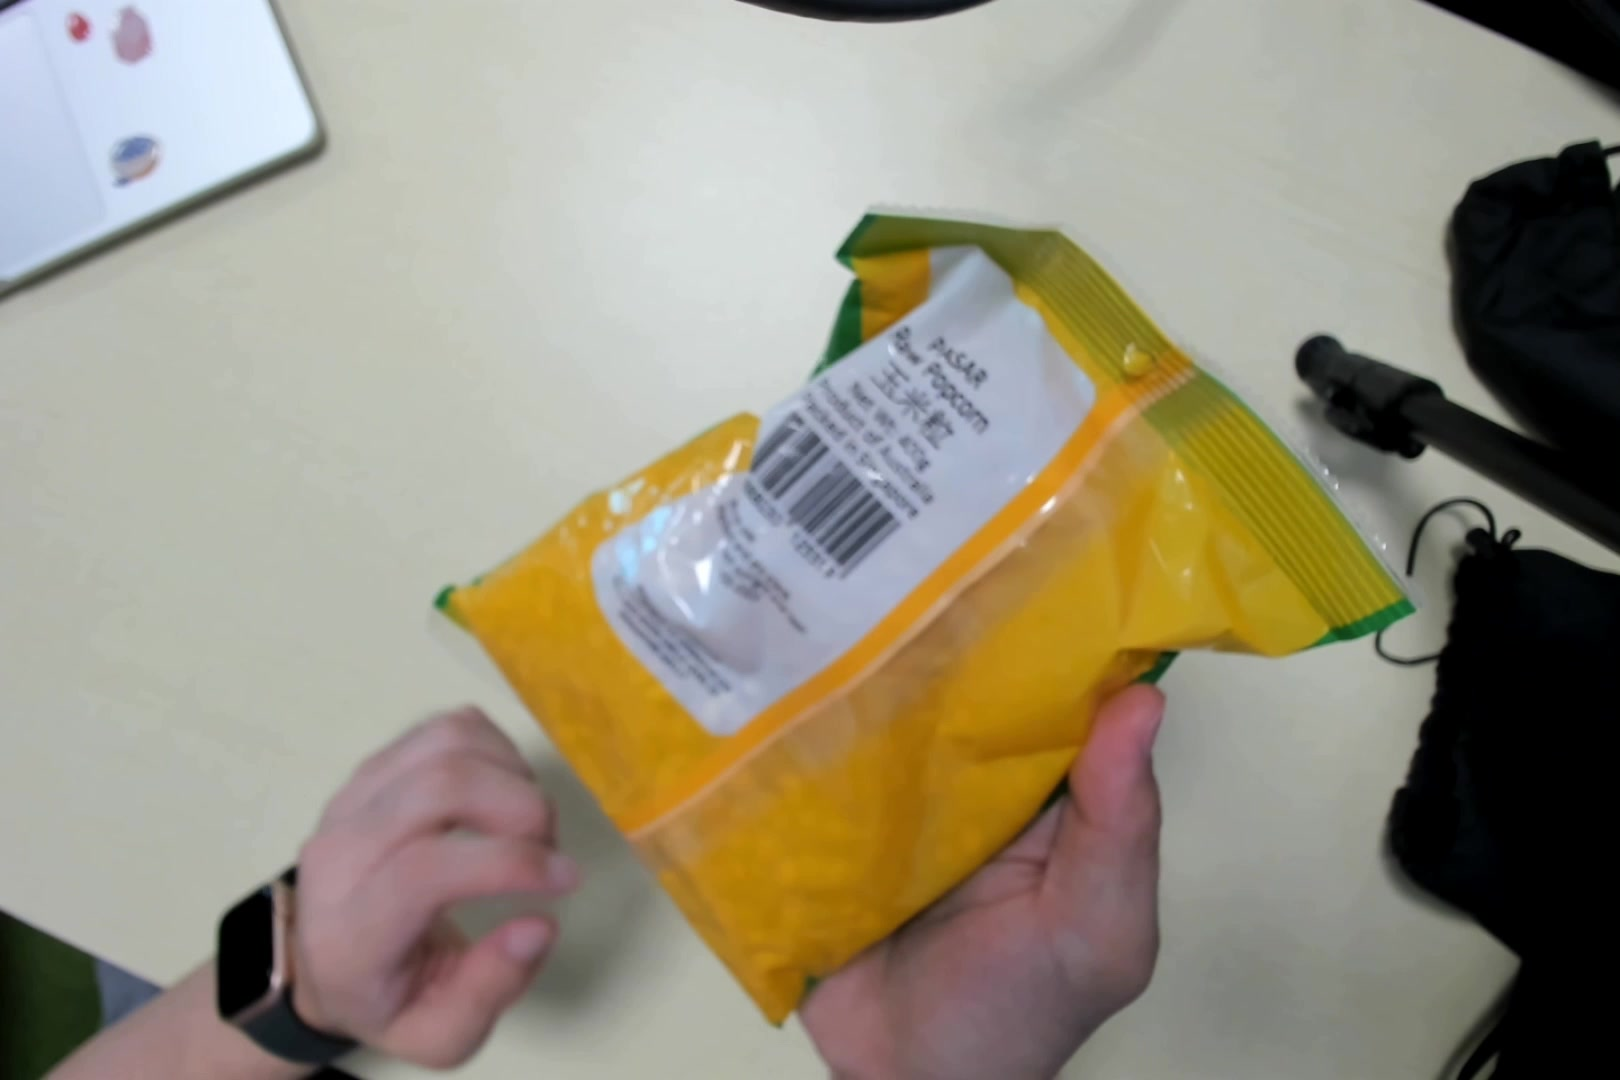DriedBeans(RedGreenSdy)_400-499g_NonHalal_NonHealthy: (517, 250, 1334, 957)
